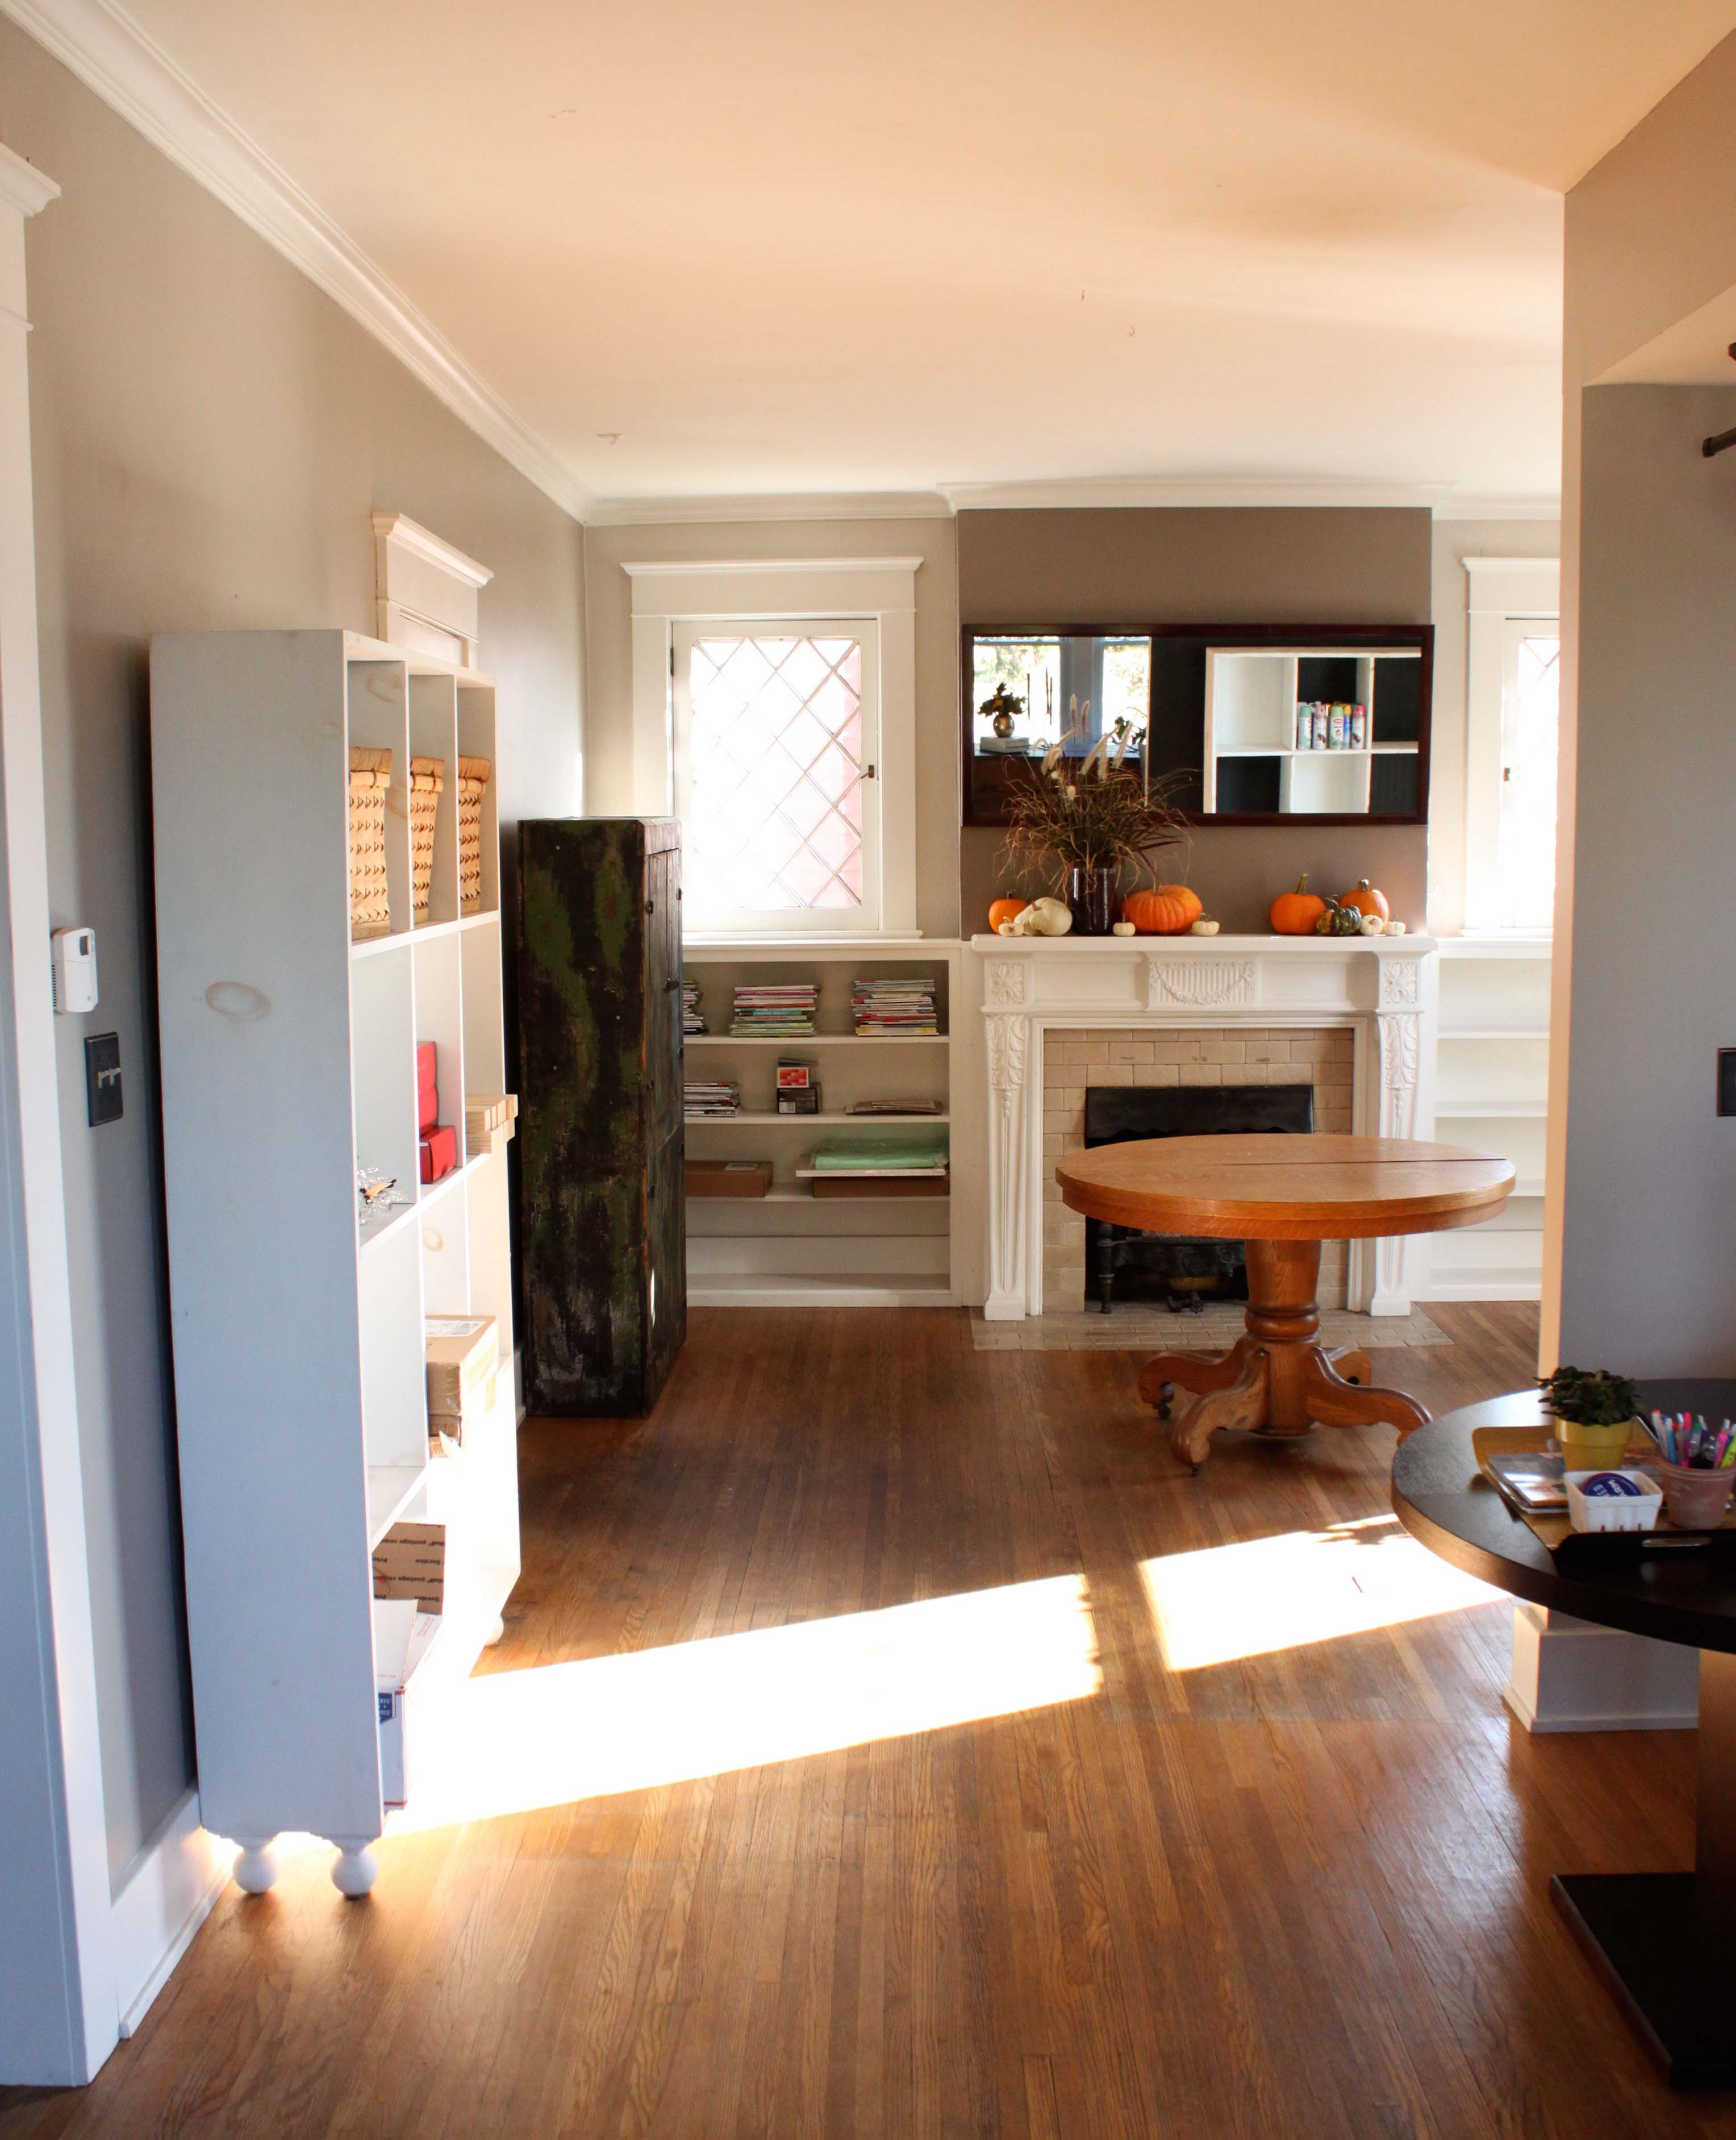coklat: (1056, 1134, 1522, 1242)
orange: (1267, 891, 1325, 937), (1134, 891, 1199, 932)
putih: (158, 638, 510, 1823)
